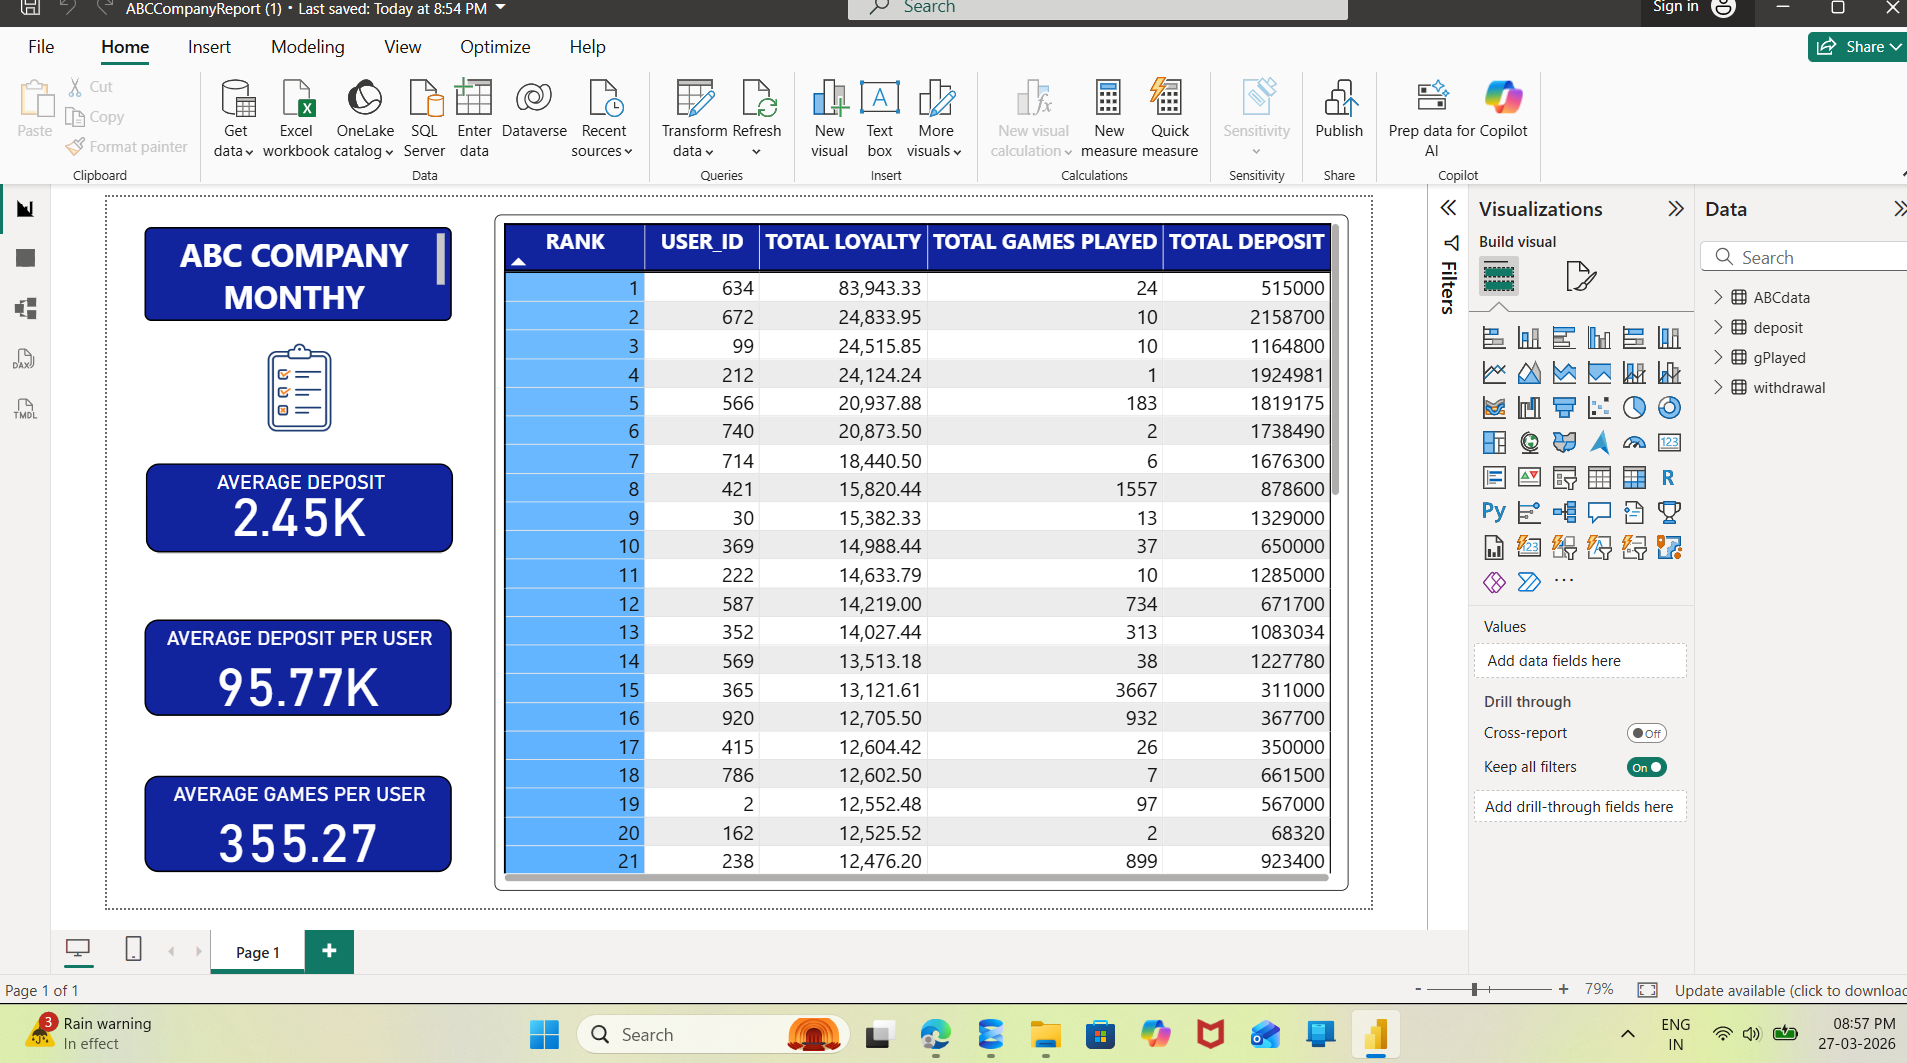

This screenshot's page, from the dashboard's own definition file:
{"tool":"powerbi","page":{"name":"Page 1","canvas":[1280,720],"ordinal":0},"visuals":[{"type":"tableEx","fields":{"Values":["ABCdata.playerRank","ABCdata.user_id","Sum(ABCdata.loyaltyPoint)","Sum(ABCdata.gPlayed)","Sum(ABCdata.deposit)"]},"box":[392.5,17.5,865,685],"z":0},{"type":"card","title":"AVERAGE DEPOSIT","fields":{"Values":["ABCdata.avgDeposit"]},"box":[38.8,270,311.2,90],"z":1000},{"type":"card","title":"AVERAGE DEPOSIT PER USER","fields":{"Values":["ABCdata.avgDepositPerUser"]},"box":[37.5,427.5,311.2,97.5],"z":2000},{"type":"card","title":"AVERAGE GAMES PER USER","fields":{"Values":["ABCdata.avgGamesPerUser"]},"box":[37.5,586.2,311.2,97.5],"z":3000},{"type":"textbox","box":[37.5,30,311.2,95],"z":5000},{"type":"image","box":[103.8,141.2,182.5,102.5],"z":7000}]}

Visuals, with their boxes on the page's 1280x720 design canvas (x1, y1, x2, y2). These are canvas units, not pixel positions in the 1907x1063 screenshot, which may show the page scaled, cropped or inside an application window:
tableEx - ABCdata.playerRank x ABCdata.user_id: left=392, top=18, right=1258, bottom=702
"AVERAGE DEPOSIT" card: left=39, top=270, right=350, bottom=360
"AVERAGE DEPOSIT PER USER" card: left=38, top=428, right=349, bottom=525
"AVERAGE GAMES PER USER" card: left=38, top=586, right=349, bottom=684
textbox: left=38, top=30, right=349, bottom=125
image: left=104, top=141, right=286, bottom=244
